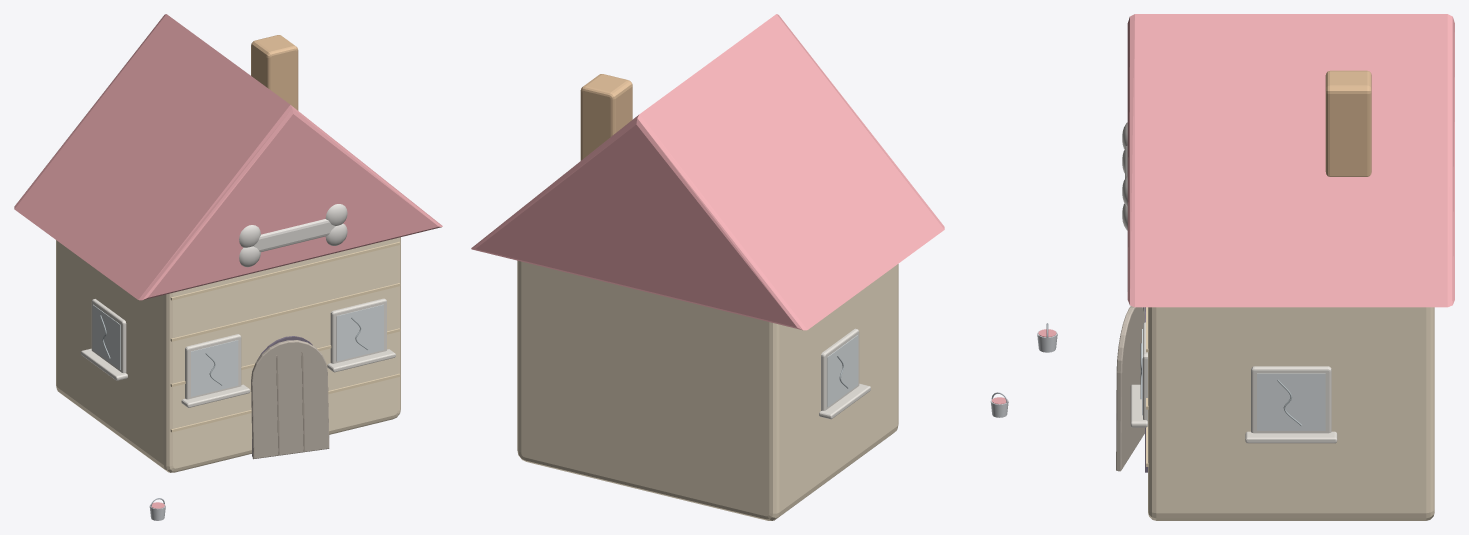
The model's file is building_pets_L04.glb.
3 renders of one model, left to right at view 1: azimuth 30°, elevation 25°; view 2: azimuth 150°, elevation 25°; view 3: azimuth 270°, elevation 25°, orthographic. The views are drawn at different scales.
Visible parts, largest first — view 1: Body; view 2: Body; view 3: Body.
Boxes of the visible parts, box(x1,y1,x2,y2) form: Body: box(14, 14, 442, 472); Body: box(471, 14, 944, 520); Body: box(1116, 14, 1454, 520).
Bounding box in the file's own units: 16.6 × 16.89 × 14.56.
